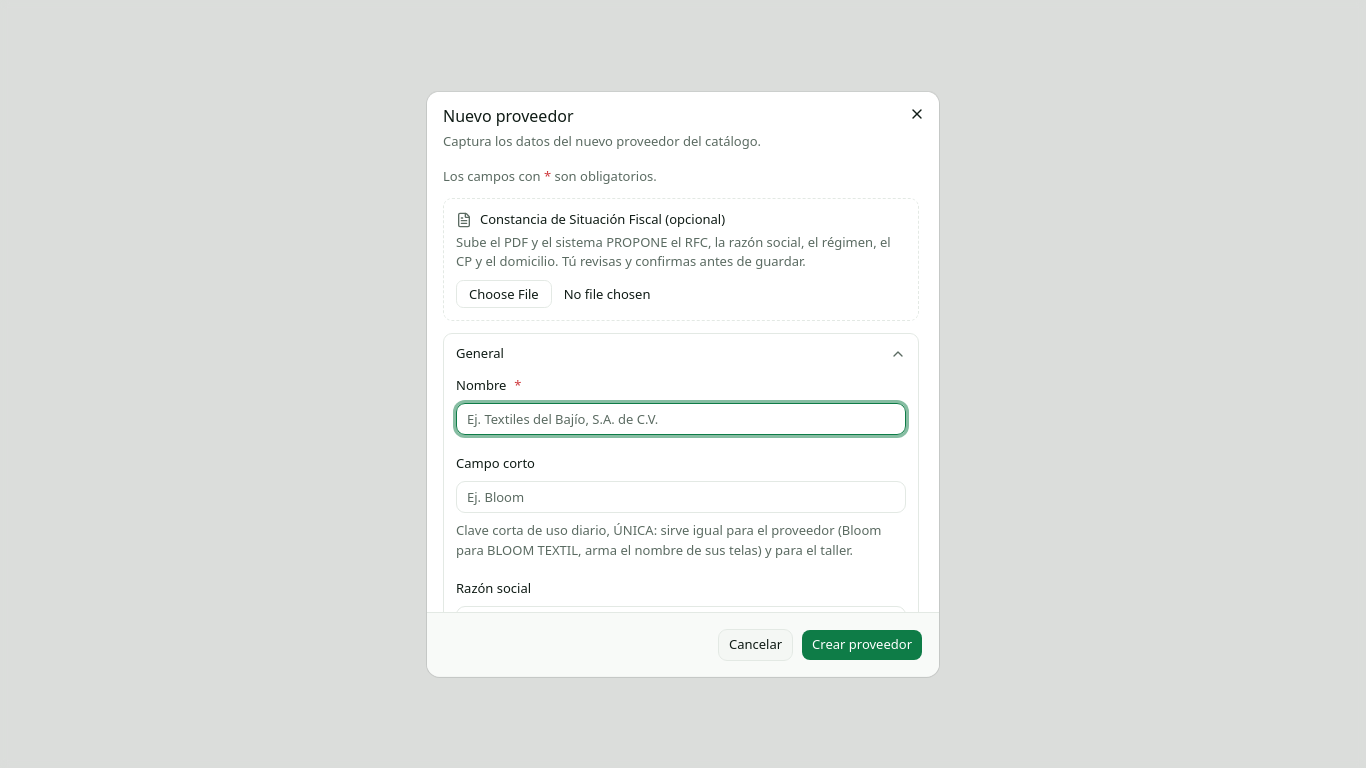
Scenario: <DialogoProveedor> › exige al menos un rol antes de guardar
Type "Sin roles" into the field named "Nombre* (obligatorio)" at (681, 419), box [456, 403, 906, 435]
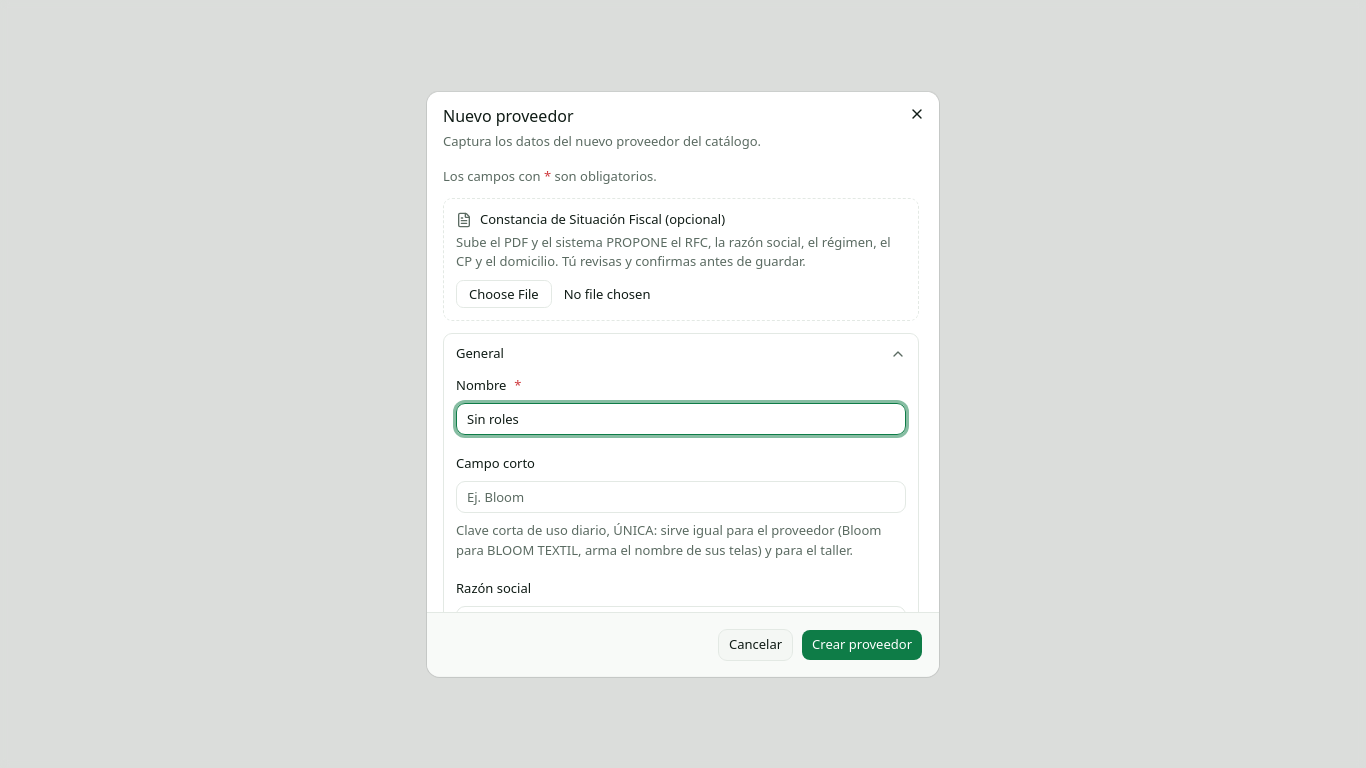
Click the button with test id "guardar-proveedor" at (862, 644), box [801, 628, 923, 660]
(page scrolled)
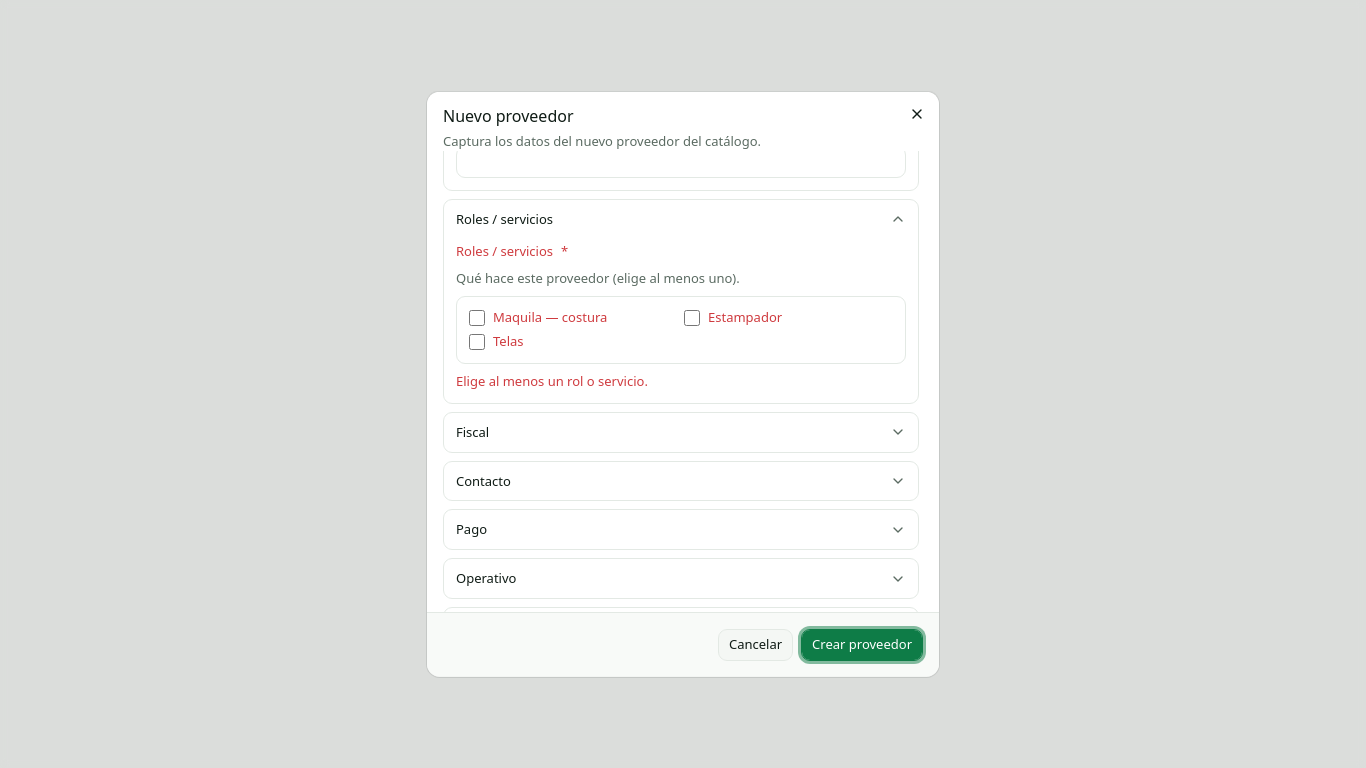
Expected: the text "Elige al menos un rol o servicio." is shown, [456, 372, 648, 390]
